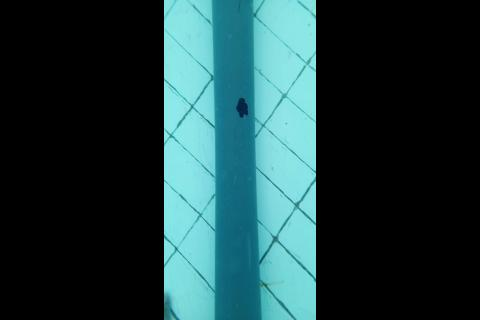kebocoran: (235, 97, 249, 119)
keretakan: (237, 0, 241, 14)
